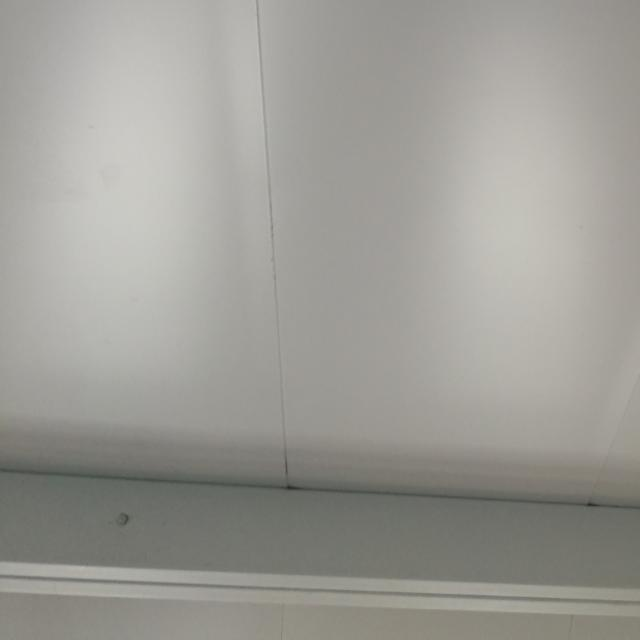fluorescent tube: (38, 0, 640, 104)
